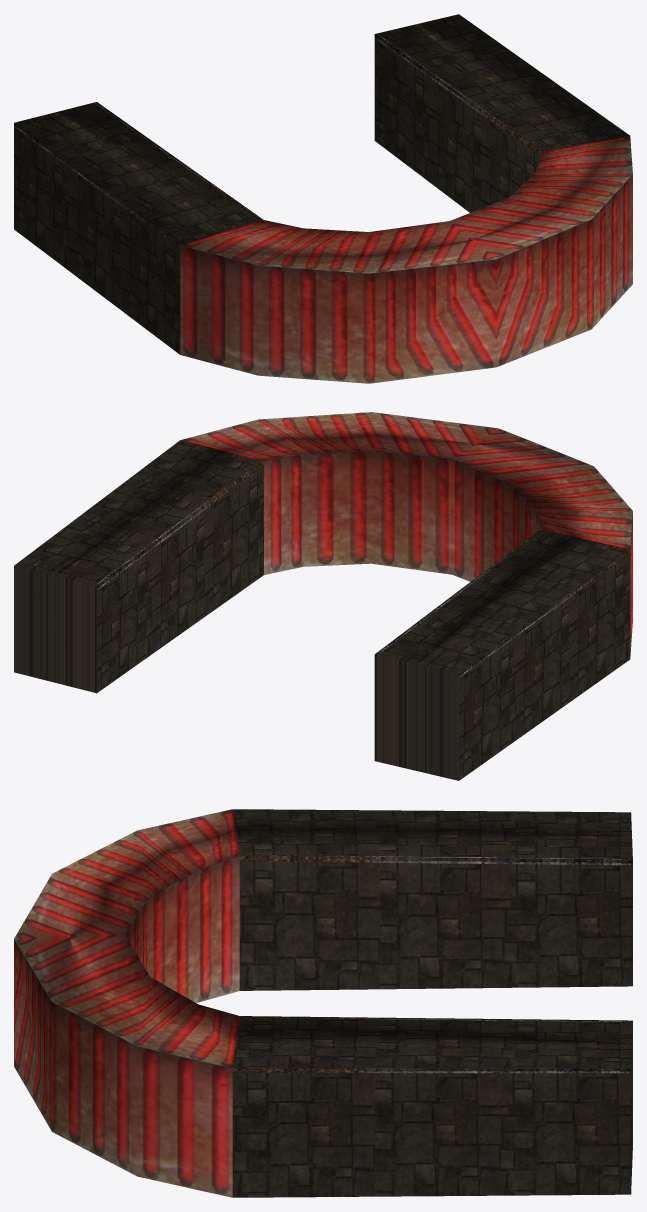
Rendered from gate_08.obj.
3 renders of one model, top to bottom at view 1: azimuth 30°, elevation 25°; view 2: azimuth 150°, elevation 25°; view 3: azimuth 270°, elevation 25°, orthographic. The views are drawn at different scales.
Parts seen in each view (by area): view 1: (null); view 2: (null); view 3: (null).
Part boxes in pixels (left/top/right/bottom): (null): left=14, top=14, right=632, bottom=383; (null): left=14, top=412, right=632, bottom=780; (null): left=14, top=809, right=632, bottom=1197.
Size of the model in its own units: 3.86 by 0.9498 by 3.89.
